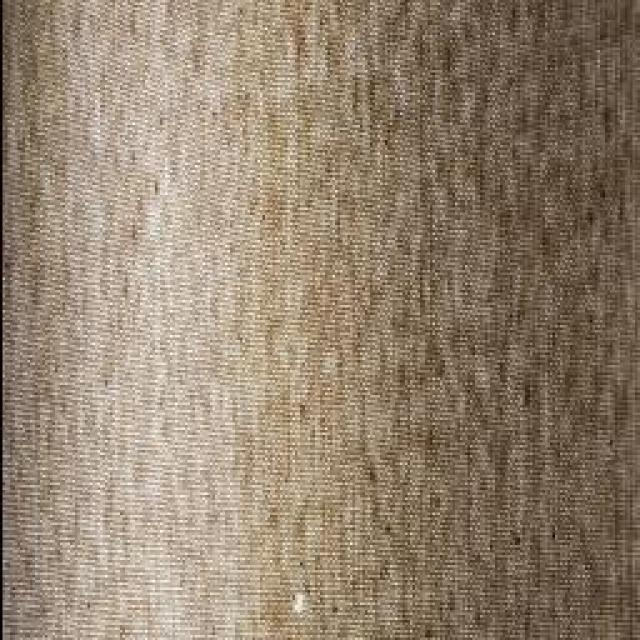other: (250, 568, 333, 638)
